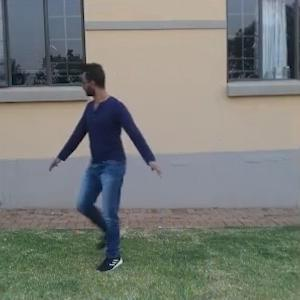land: (43, 76, 165, 237)
